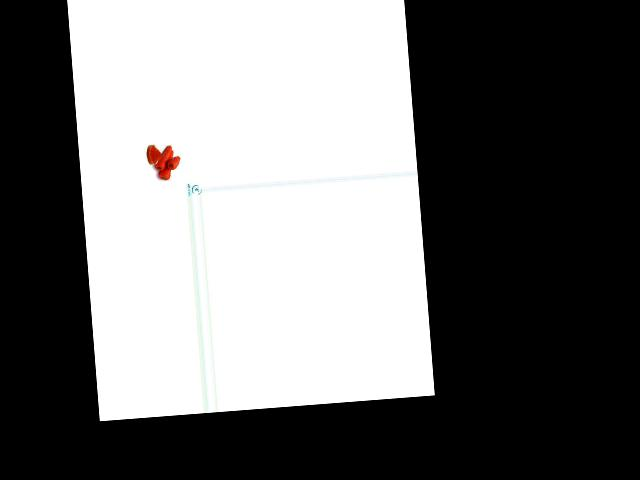carrot: (154, 143, 174, 170)
